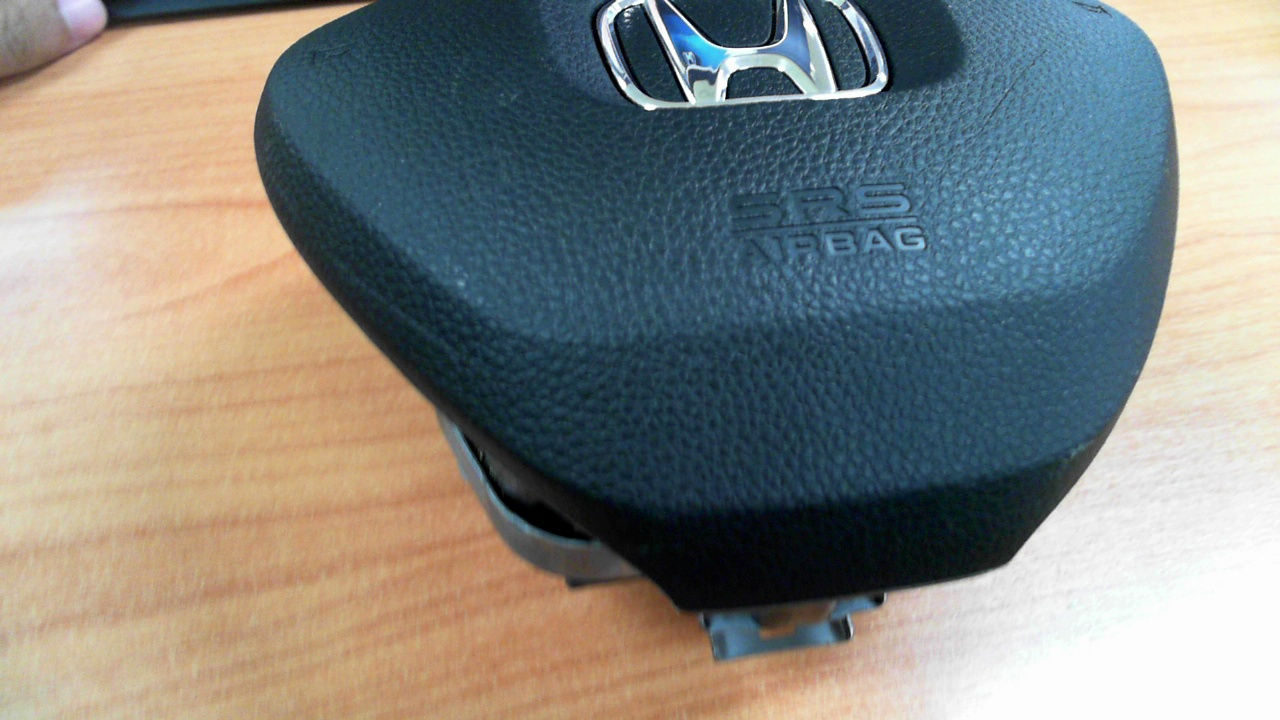Airbag: (240, 0, 1204, 644)
Honda: (601, 0, 889, 112)
